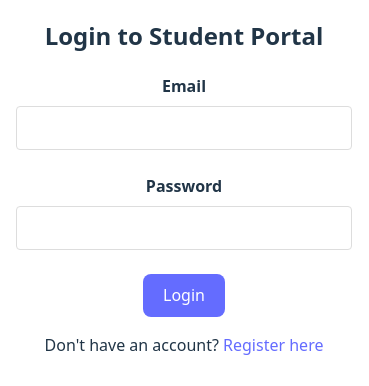
Test case: LoginPage › should show validation error for short password
This screenshot has width=369, height=386.
Type "test@example.com" into the field labelled "Email" at x=184, y=128, box [16,106,352,150]
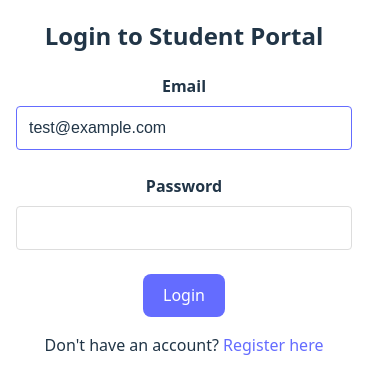
Type "123" into the password field labelled "Password" at x=184, y=228, box [16,206,352,250]
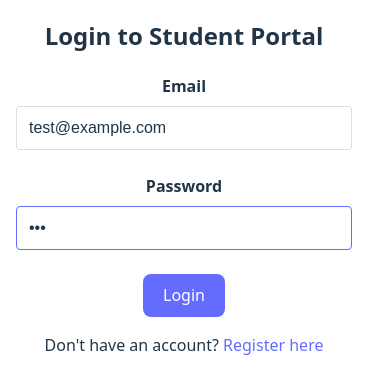
Click the button "Login" at x=184, y=295, box [143,274,225,317]
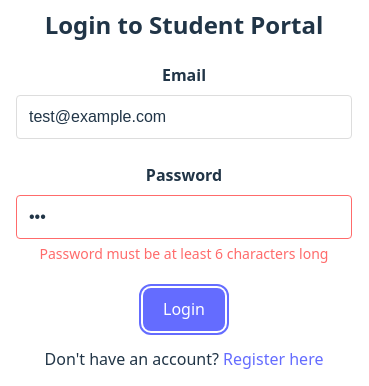
Check: the text "Password must be at least 6 characters long" is shown, box [16,243,352,264]
